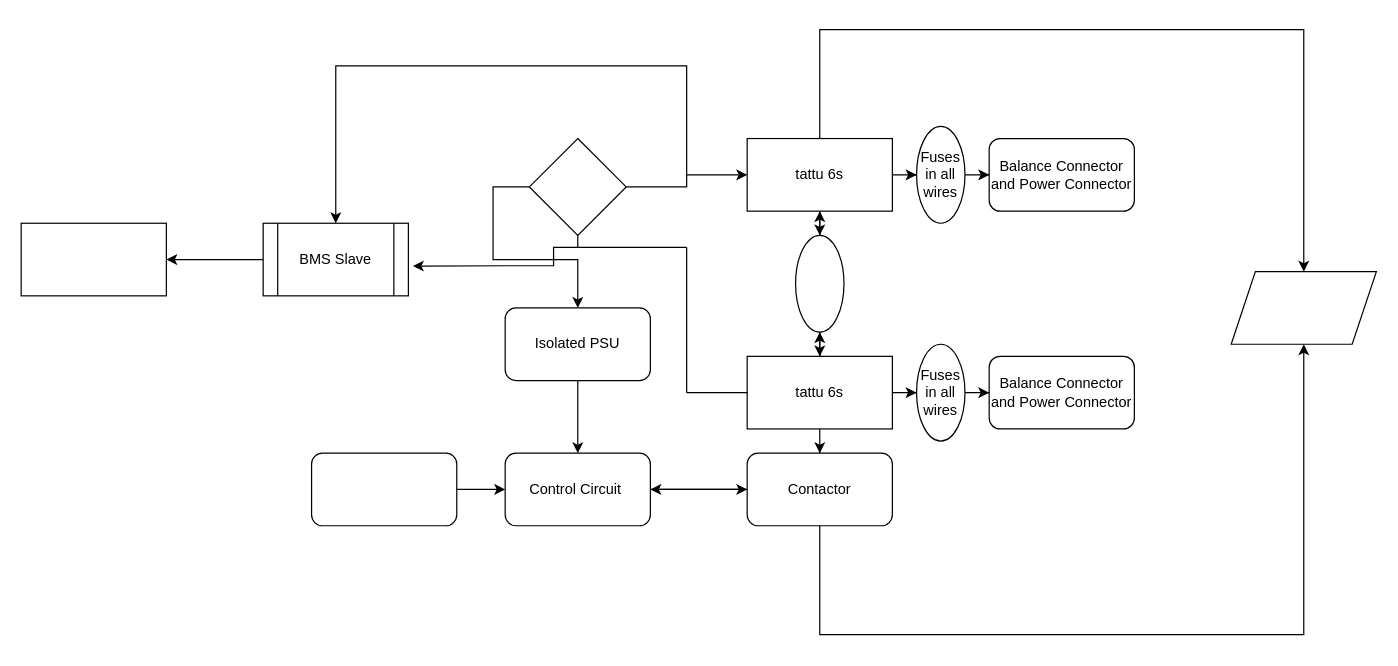
Image size: 1398x666. Some labels were removed from this diagram. Each missing label, with the box of its shape:
BMS: (528, 137, 626, 235)
Electronics: (310, 452, 457, 526)
Fuse: (794, 234, 844, 332)
Output Connector: (1230, 270, 1376, 344)
Slave Connectors for daisy chaining: (20, 222, 166, 296)
